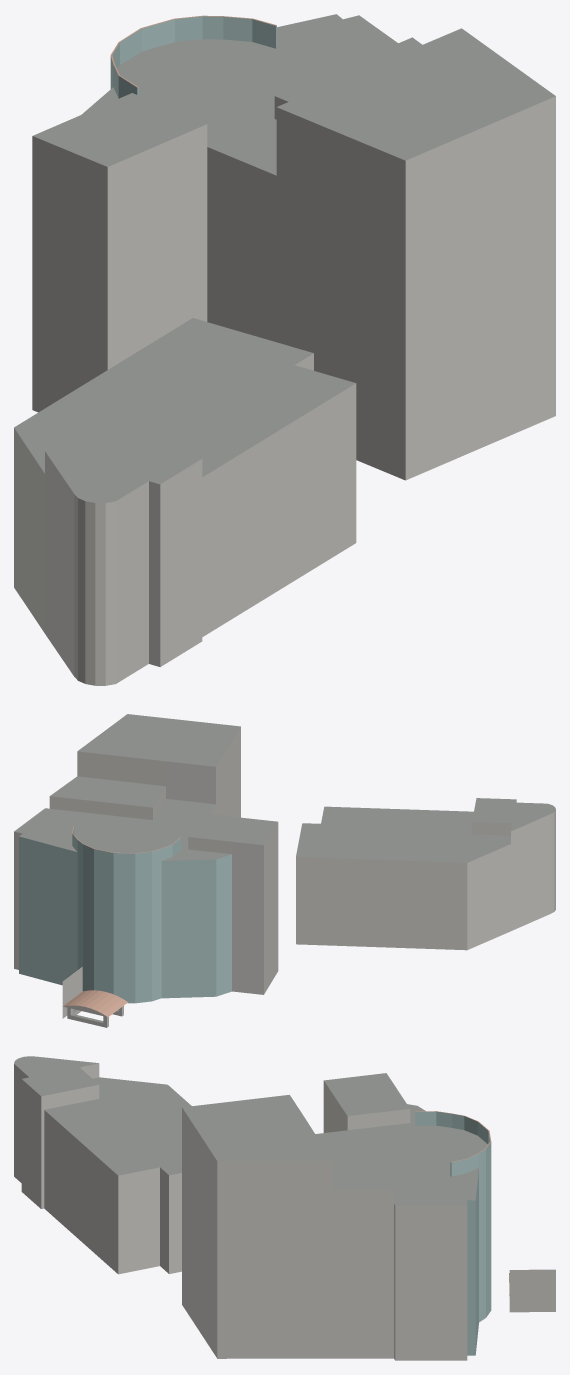
File: gridID_109.dae
3 renders of one model, top to bottom at view 1: azimuth 30°, elevation 25°; view 2: azimuth 150°, elevation 25°; view 3: azimuth 270°, elevation 25°, orthographic. The views are drawn at different scales.
Visible parts, largest first — view 1: model_gridID_109_w387139778, model_gridID_109_w387139778_001; view 2: model_gridID_109_w387139778, model_gridID_109_w387139778_001, model_gridID_109_w388845272; view 3: model_gridID_109_w387139778, model_gridID_109_w387139778_001, model_gridID_109_w388845272.
Part boxes in pixels (x1,y1,x2,y2): model_gridID_109_w387139778: [32, 14, 555, 480]; model_gridID_109_w387139778_001: [14, 318, 356, 685]; model_gridID_109_w387139778: [14, 714, 278, 1003]; model_gridID_109_w387139778_001: [296, 798, 555, 950]; model_gridID_109_w388845272: [62, 967, 127, 1027]; model_gridID_109_w387139778: [182, 1073, 491, 1360]; model_gridID_109_w387139778_001: [14, 1056, 191, 1274]; model_gridID_109_w388845272: [509, 1269, 555, 1312].
Bounding box in the file's own units: 72.86 × 87.03 × 35.
